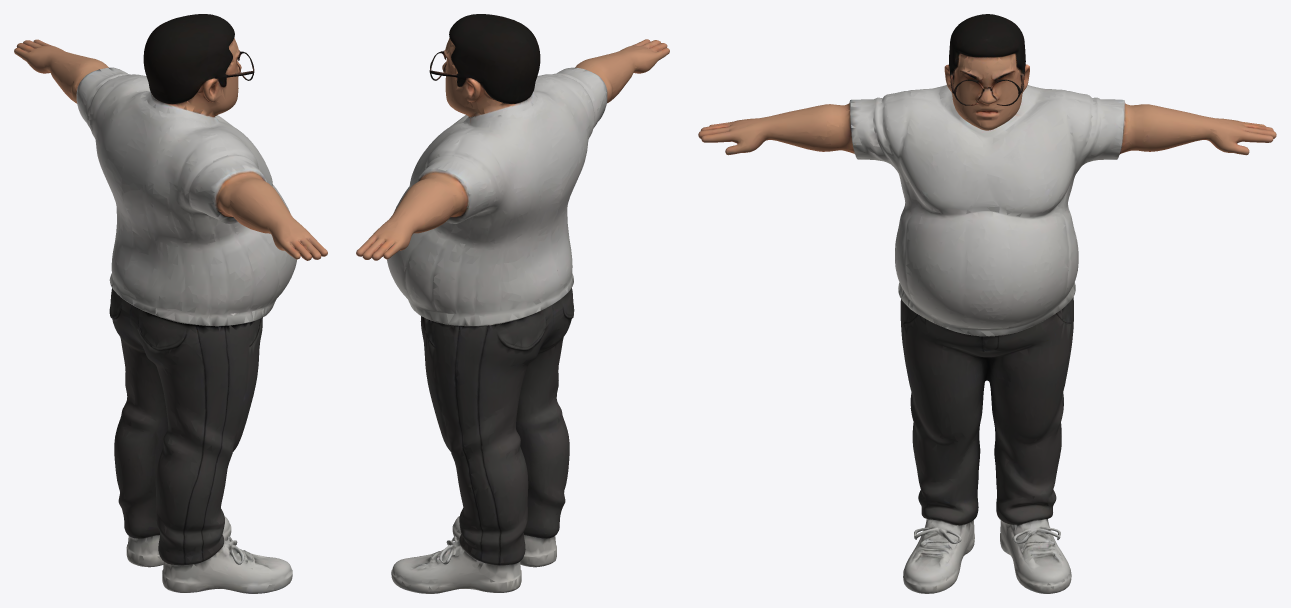
Rendered from phs1.fbx.
The picture shows the model from 3 angles, left to right: view 1: azimuth 30°, elevation 25°; view 2: azimuth 150°, elevation 25°; view 3: azimuth 270°, elevation 25°; orthographic projection.
Visible parts, largest first — view 1: tripo_node_6d158229; view 2: tripo_node_6d158229; view 3: tripo_node_6d158229.
Part boxes in pixels (box(x1,y1,x2,y2)): tripo_node_6d158229: box(14, 14, 327, 593); tripo_node_6d158229: box(356, 14, 669, 593); tripo_node_6d158229: box(698, 14, 1276, 593).
Size of the model in its own units: 0.3126 by 1 by 0.9678.
